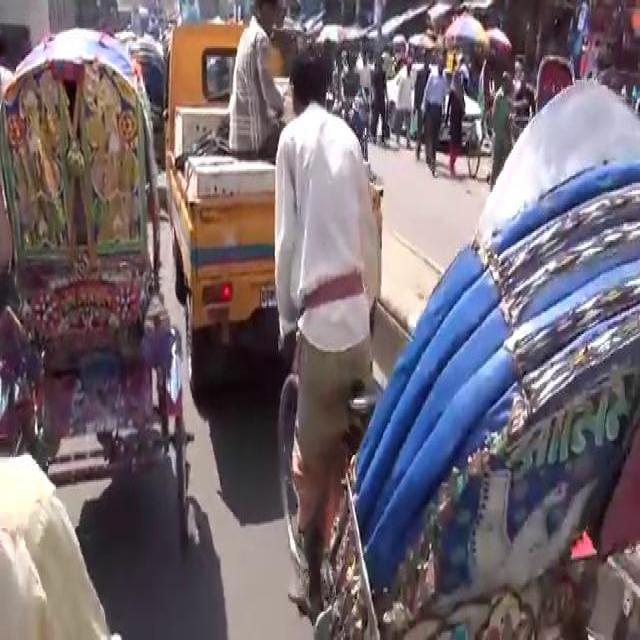car: (383, 57, 483, 151)
motorcycle: (271, 53, 636, 635), (0, 19, 197, 566), (465, 53, 527, 183), (127, 30, 166, 164), (531, 48, 574, 112)
truck: (162, 5, 383, 412)
